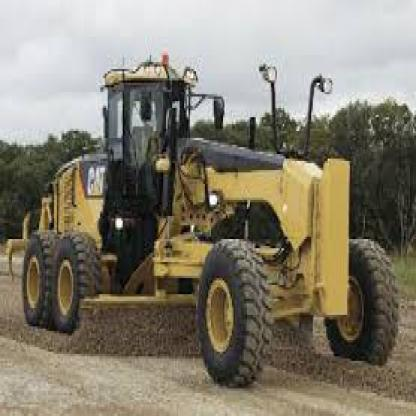bull_dozer/loader/grader: (12, 55, 400, 393)
